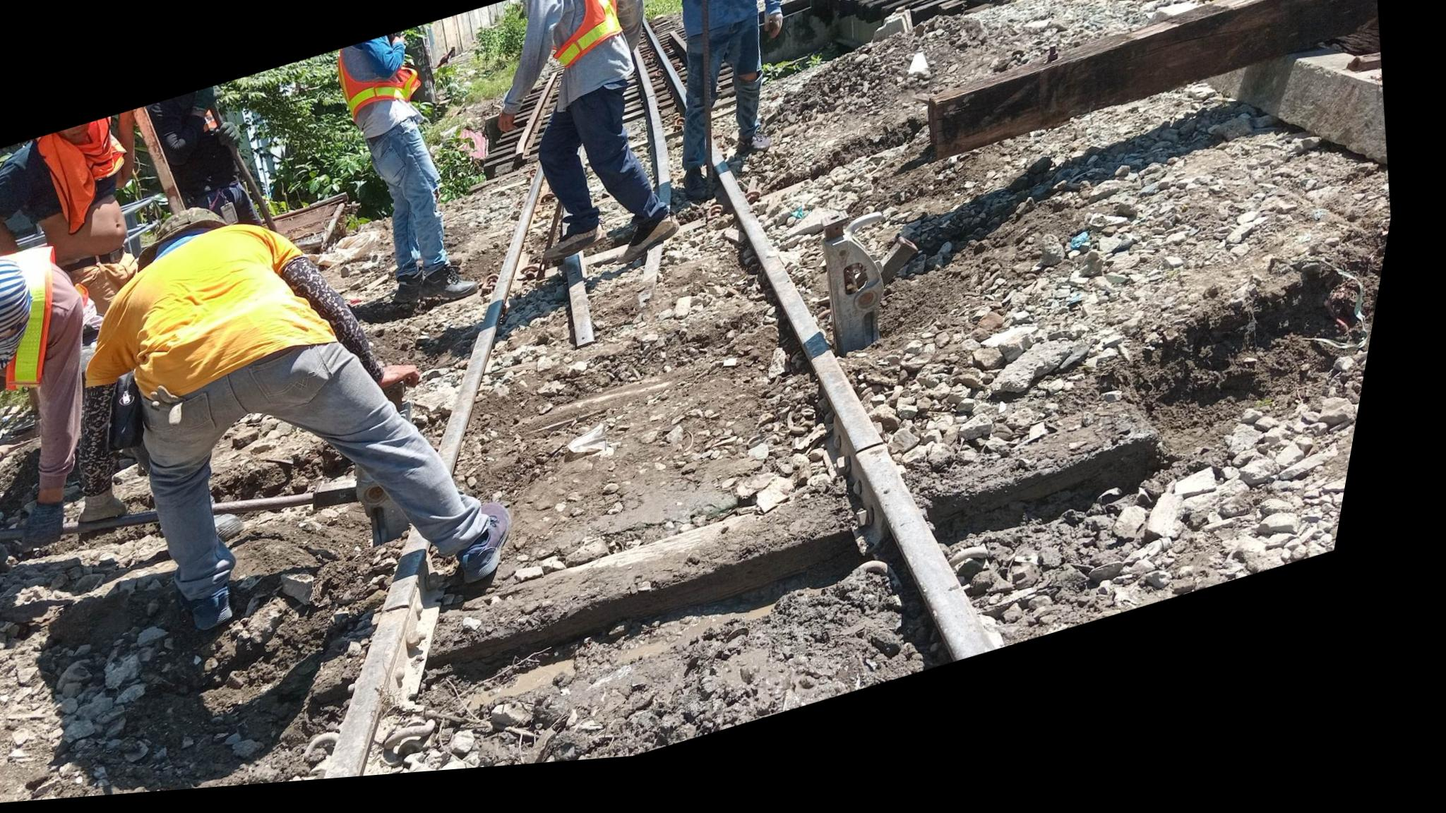person: (835, 421, 937, 511), (369, 571, 462, 657)
